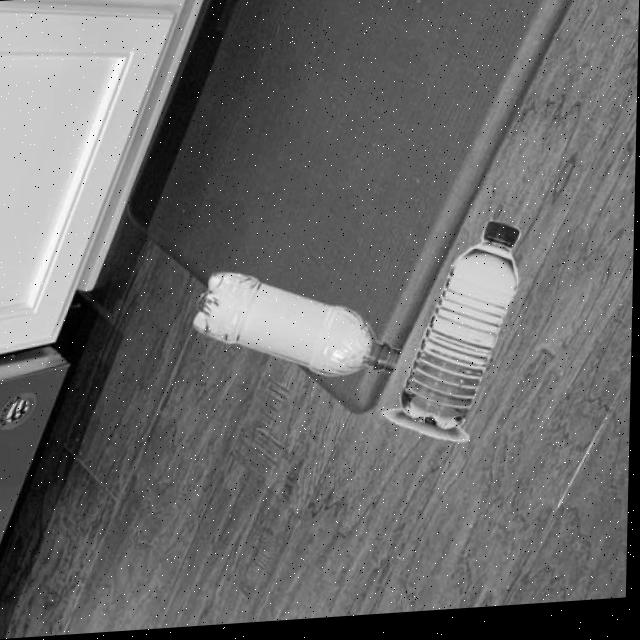bottle: (382, 225, 525, 455), (190, 265, 403, 392)
